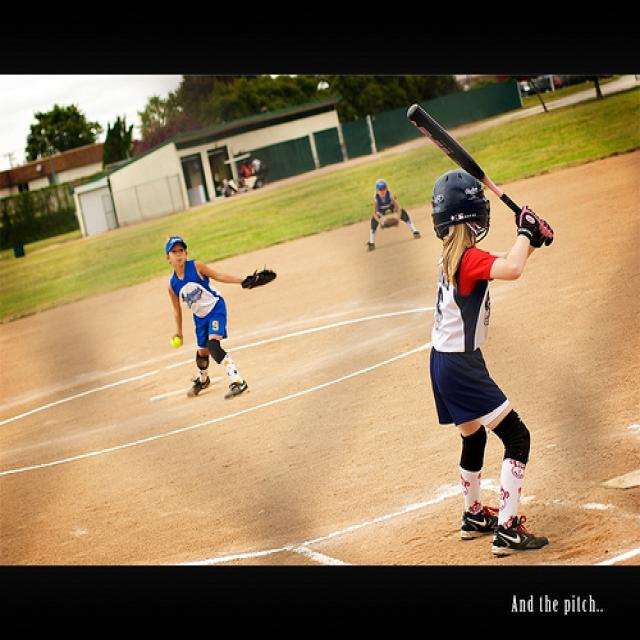Vehicle: (523, 77, 551, 96), (559, 75, 588, 89)
